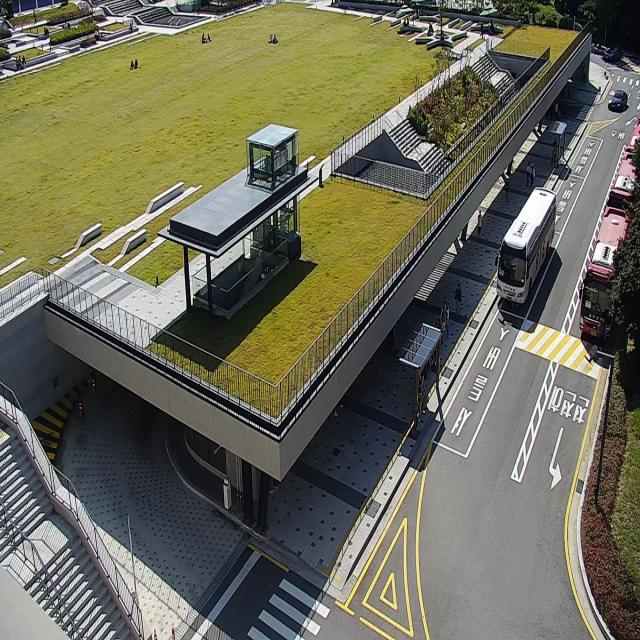queue: (412, 299, 449, 433)
